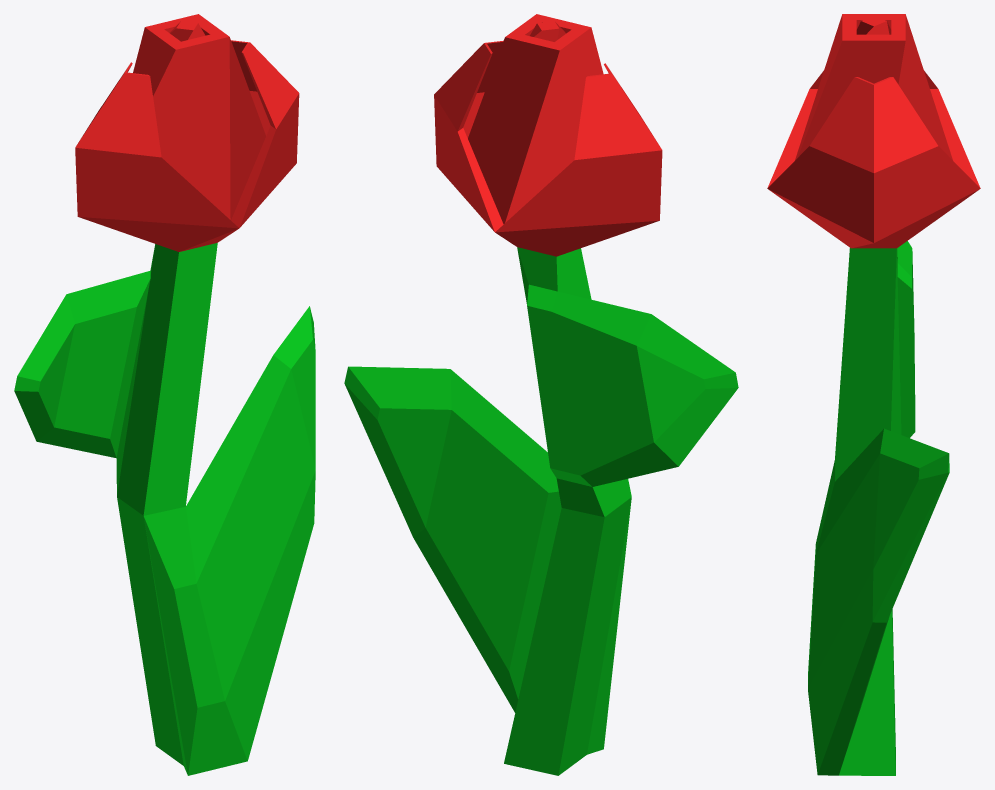
The model's file is stm_env_rose.fbx.
The picture shows the model from 3 angles, left to right: view 1: azimuth 30°, elevation 25°; view 2: azimuth 150°, elevation 25°; view 3: azimuth 270°, elevation 25°; orthographic projection.
Parts seen in each view (by area): view 1: Rose; view 2: Rose; view 3: Rose.
Boxes of the visible parts, x1,y1,x2,y2 form: Rose: [14, 14, 315, 775]; Rose: [344, 14, 738, 775]; Rose: [767, 14, 980, 775].
Size of the model in its own units: 1147 by 2315 by 606.
